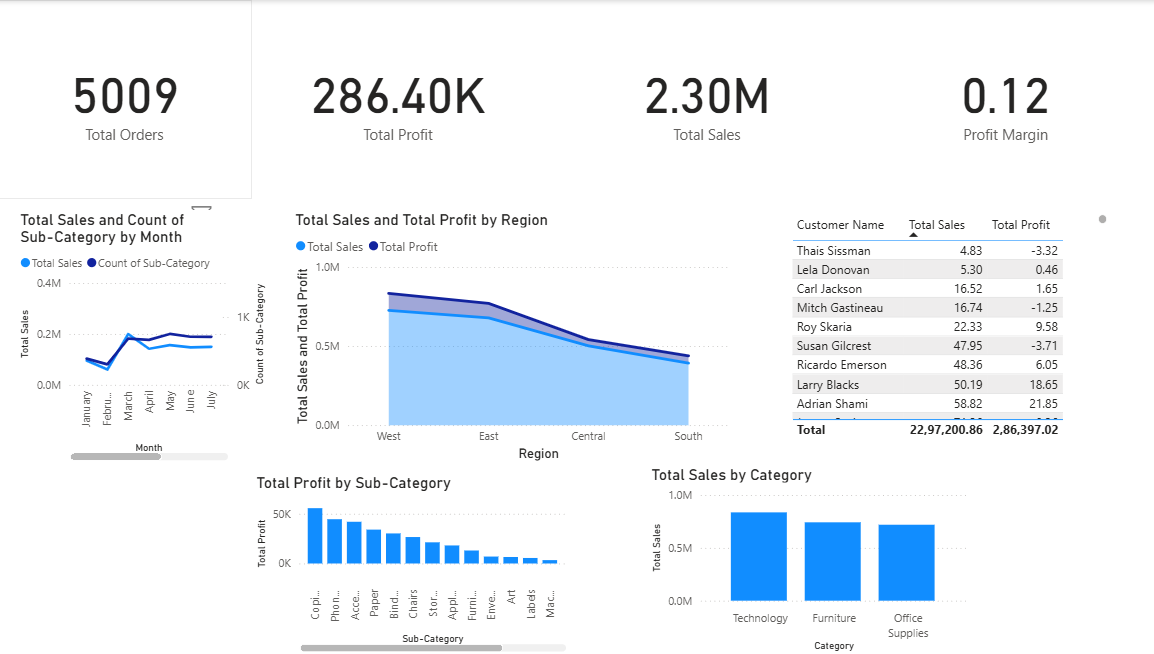

The dashboard page shown, as its layout file describes it:
{"tool":"powerbi","page":{"name":"Page 1","canvas":[1280,720],"ordinal":0},"visuals":[{"type":"columnChart","fields":{"Category":["Superstore.Category"],"Y":["Superstore.Total Sales"]},"box":[713.6,510.5,356.8,209.9],"z":0},{"type":"card","fields":{"Values":["Superstore.Total Orders"]},"box":[0,0,279.9,218.2],"z":1000},{"type":"card","fields":{"Values":["Superstore.Total Profit"]},"box":[300.5,0,279.9,218.2],"z":2000},{"type":"card","fields":{"Values":["Superstore.Profit Margin"]},"box":[945.5,0,323.8,218.2],"z":3000},{"type":"card","fields":{"Values":["Superstore.Total Sales"]},"box":[639.5,0,279.9,218.2],"z":4000},{"type":"columnChart","fields":{"Category":["Superstore.Sub-Category"],"Y":["Superstore.Total Profit"]},"box":[279.9,520.1,349.9,200.3],"z":5000},{"type":"lineChart","fields":{"Category":["Superstore.Order Date.Variation.Date Hierarchy.Month"],"Y":["Superstore.Total Sales"],"Y2":["CountNonNull(Superstore.Sub-Category)"]},"box":[20.6,230.5,279.9,279.9],"z":6000},{"type":"stackedAreaChart","fields":{"Category":["Superstore.Region"],"Y":["Superstore.Total Sales","Superstore.Total Profit"]},"box":[322.5,230.5,485.8,279.9],"z":7000},{"type":"tableEx","fields":{"Values":["Superstore.Customer Name","Superstore.Total Sales","Superstore.Total Profit"]},"box":[867,231.1,355.8,255.6],"z":8000}]}

Visuals, with their boxes in screenshot pixels (x1, y1, x2, y2), scaled from the page's 1280x720 canvas onto the 1154x654 screenshot:
columnChart - Superstore.Category x Superstore.Total Sales: 643, 464, 965, 653
card - Superstore.Total Orders: 0, 0, 252, 198
card - Superstore.Total Profit: 271, 0, 523, 198
card - Superstore.Profit Margin: 852, 0, 1144, 198
card - Superstore.Total Sales: 577, 0, 829, 198
columnChart - Superstore.Sub-Category x Superstore.Total Profit: 252, 472, 568, 653
lineChart - Superstore.Order Date.Variation.Date Hierarchy.Month x Superstore.Total Sales: 19, 209, 271, 464
stackedAreaChart - Superstore.Region x Superstore.Total Sales: 291, 209, 729, 464
tableEx - Superstore.Customer Name x Superstore.Total Sales: 782, 210, 1102, 442
